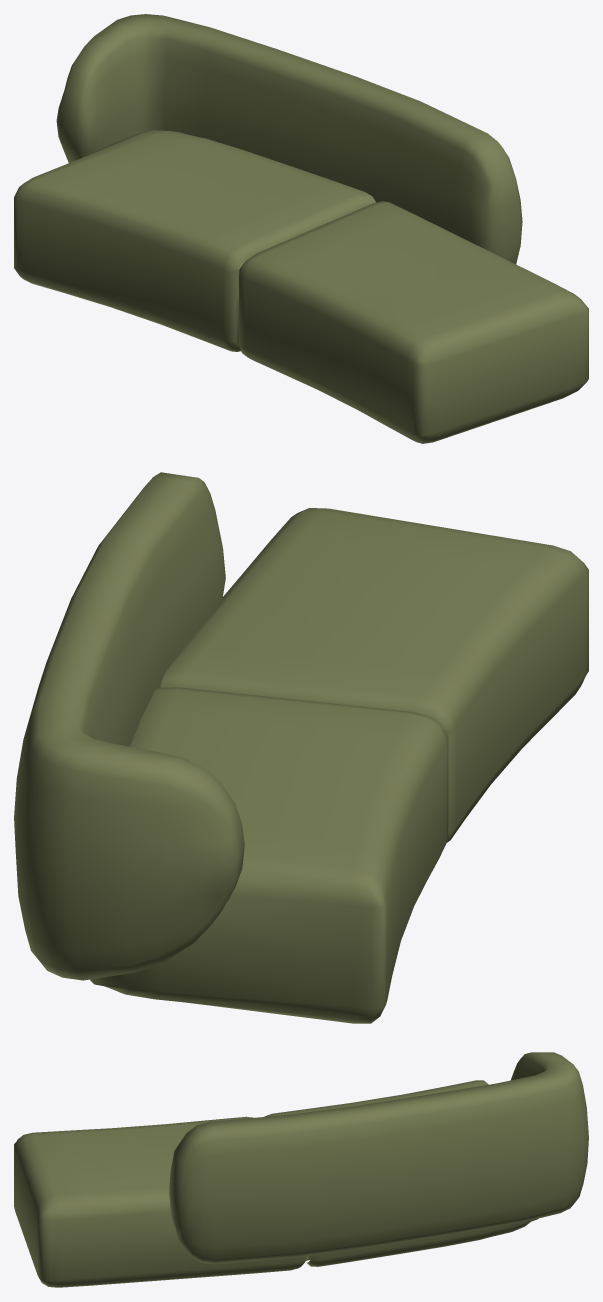
File: sofa_green.fbx
3 views of the same model, one above another, from view 1: azimuth 30°, elevation 25°; view 2: azimuth 150°, elevation 25°; view 3: azimuth 270°, elevation 25° (orthographic). The views are drawn at different scales.
Parts seen in each view (by area): view 1: sofa_green.008; view 2: sofa_green.008; view 3: sofa_green.008.
Part boxes in pixels (left/top/right/bottom): sofa_green.008: left=14, top=14, right=588, bottom=443; sofa_green.008: left=14, top=472, right=588, bottom=1023; sofa_green.008: left=14, top=1052, right=588, bottom=1287.
Bounding box in the file's own units: 161 × 87.89 × 280.
